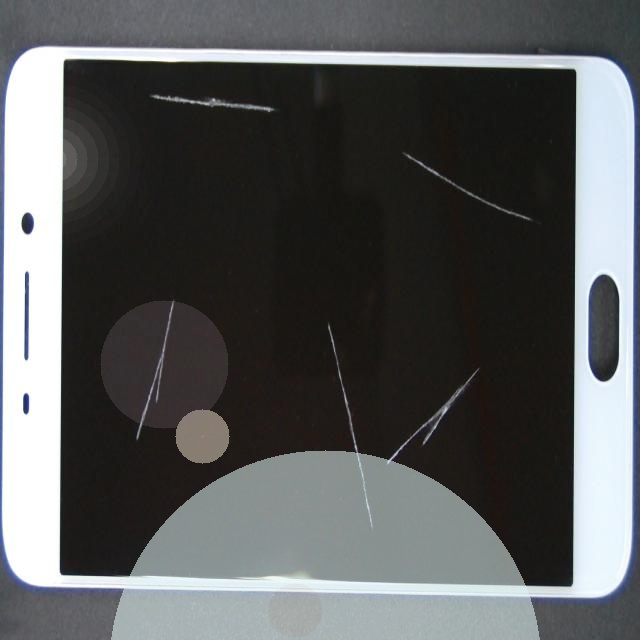scratch: (296, 129, 640, 574), (172, 291, 568, 640), (104, 67, 229, 514), (343, 139, 640, 268), (224, 41, 369, 128)
